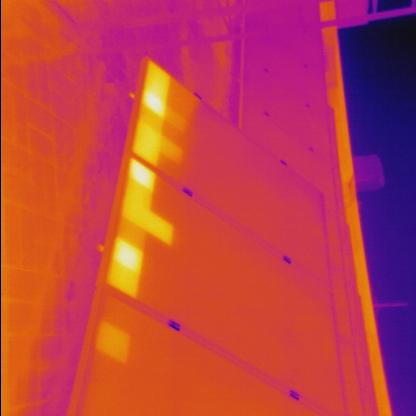hotspot: (94, 325, 130, 361), (107, 242, 143, 274), (140, 64, 170, 96), (127, 159, 155, 193), (146, 212, 170, 246), (138, 143, 180, 161), (139, 93, 167, 117)
